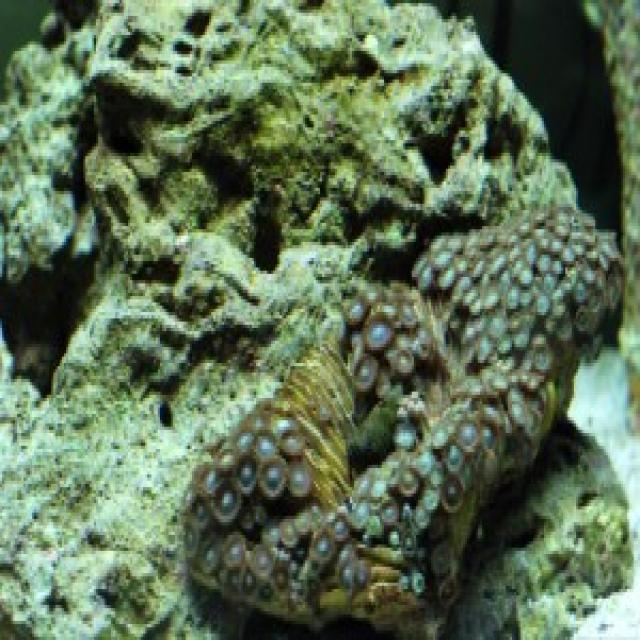Healthy: (189, 208, 618, 638)
